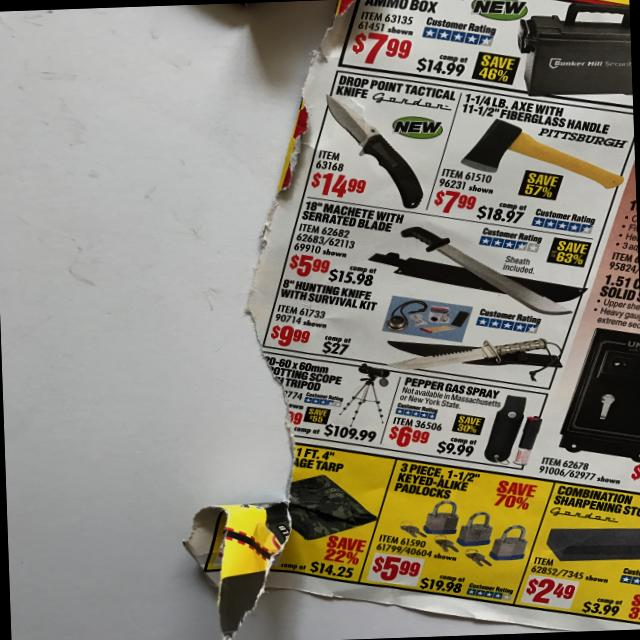Paper: (151, 0, 640, 640)
